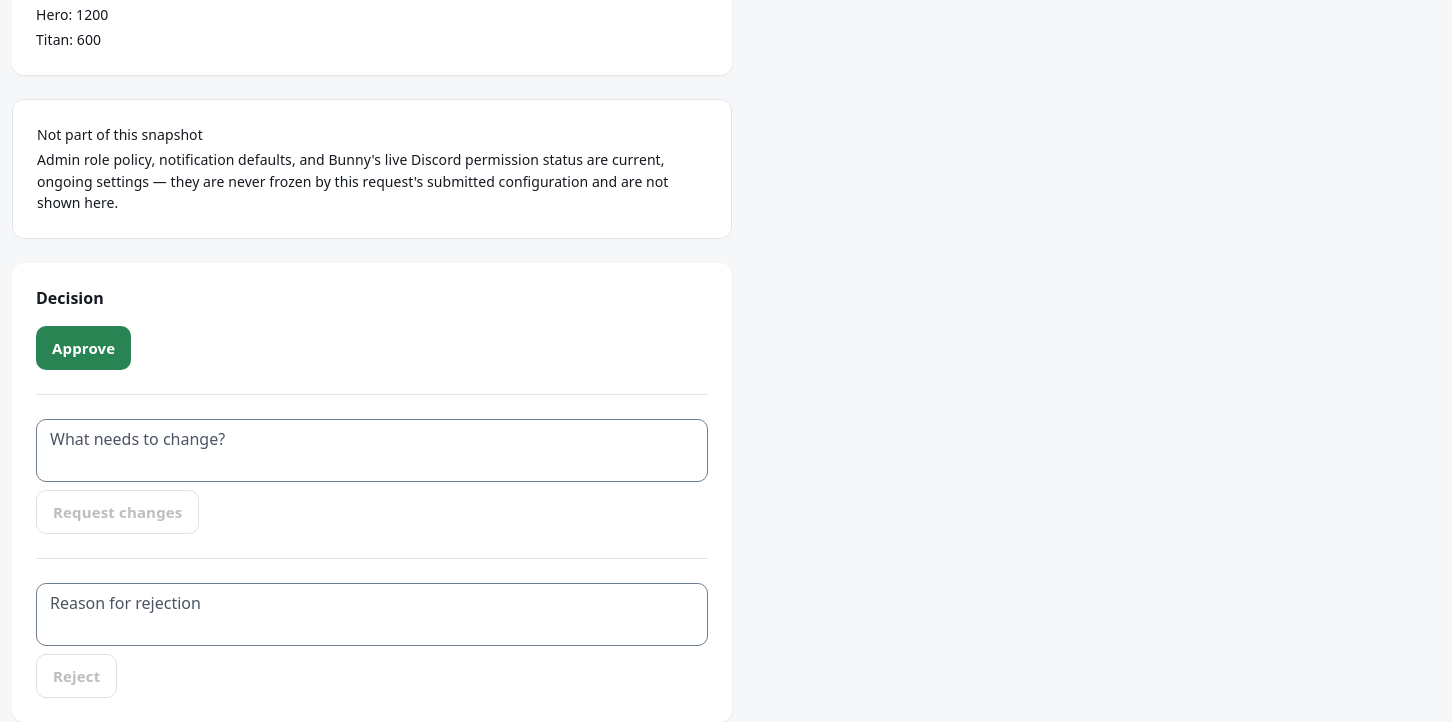
ActivationRequestReviewScreen › Approve posts with no body and moves the screen to the already-decided state
The width and height of the screenshot is (1452, 722).
(page scrolled)
Click the button "Approve" at coordinates (84, 348), box [36,326,131,370]
(page scrolled)
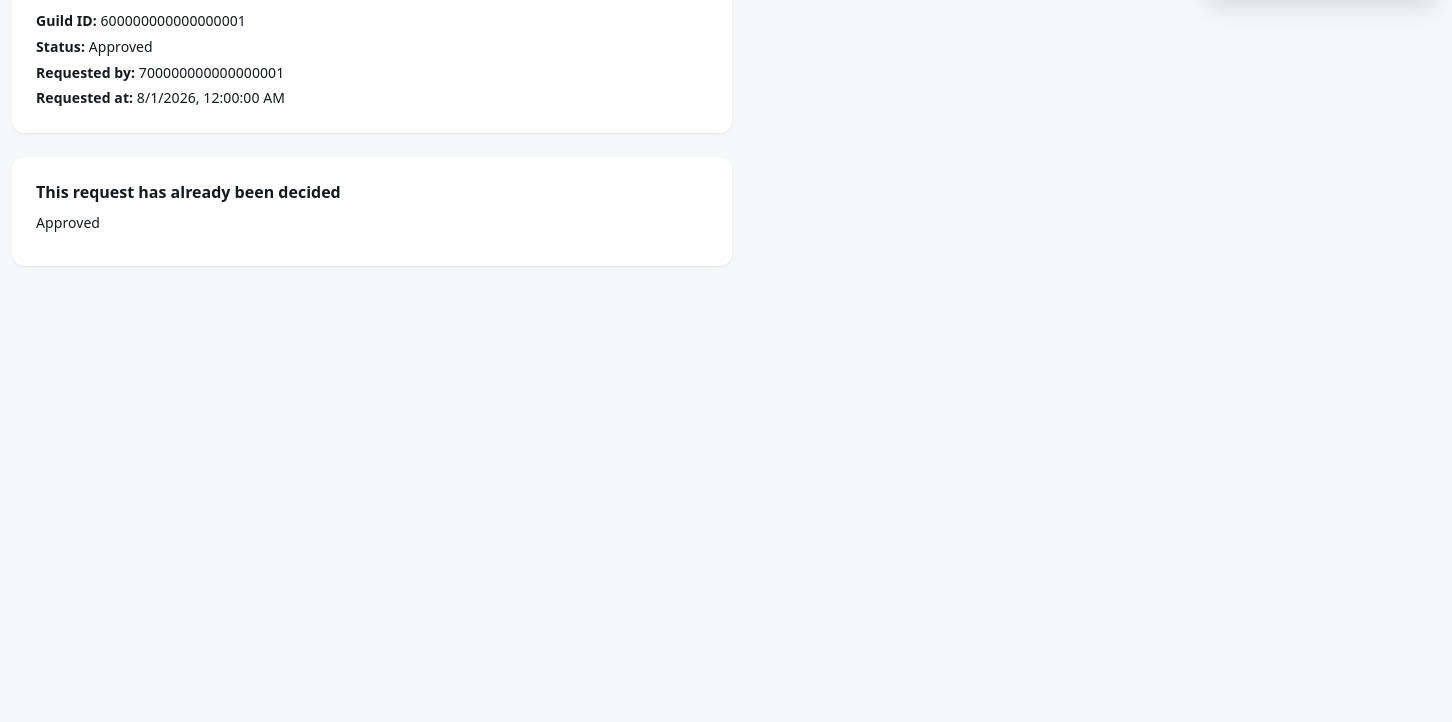
Check: the message "This request has already been decided Approved" is shown, box [12,157,732,266]
